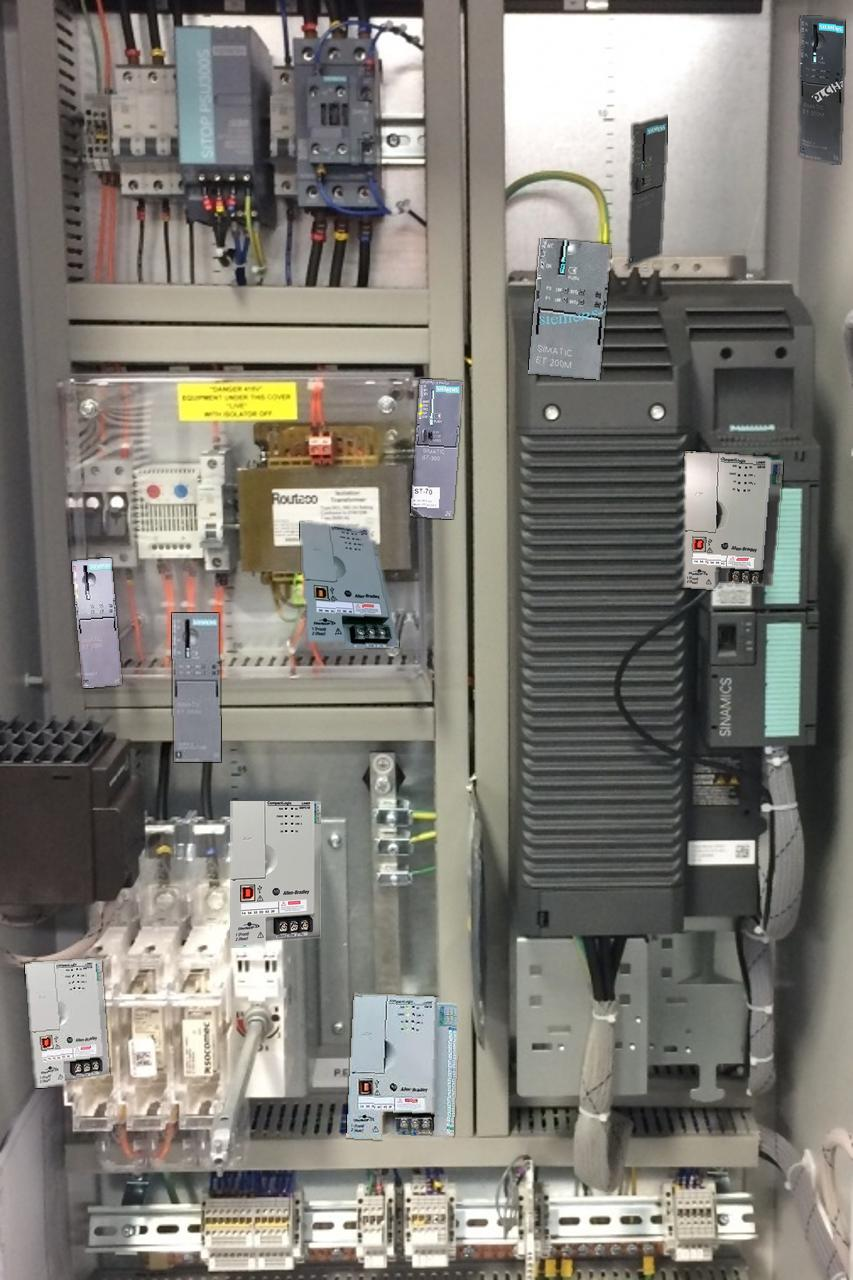AllenBradley: (346, 994, 457, 1139), (683, 451, 782, 589), (230, 801, 320, 947), (300, 522, 398, 647), (25, 959, 109, 1087)
Siemens: (410, 379, 461, 518), (628, 116, 667, 266)
